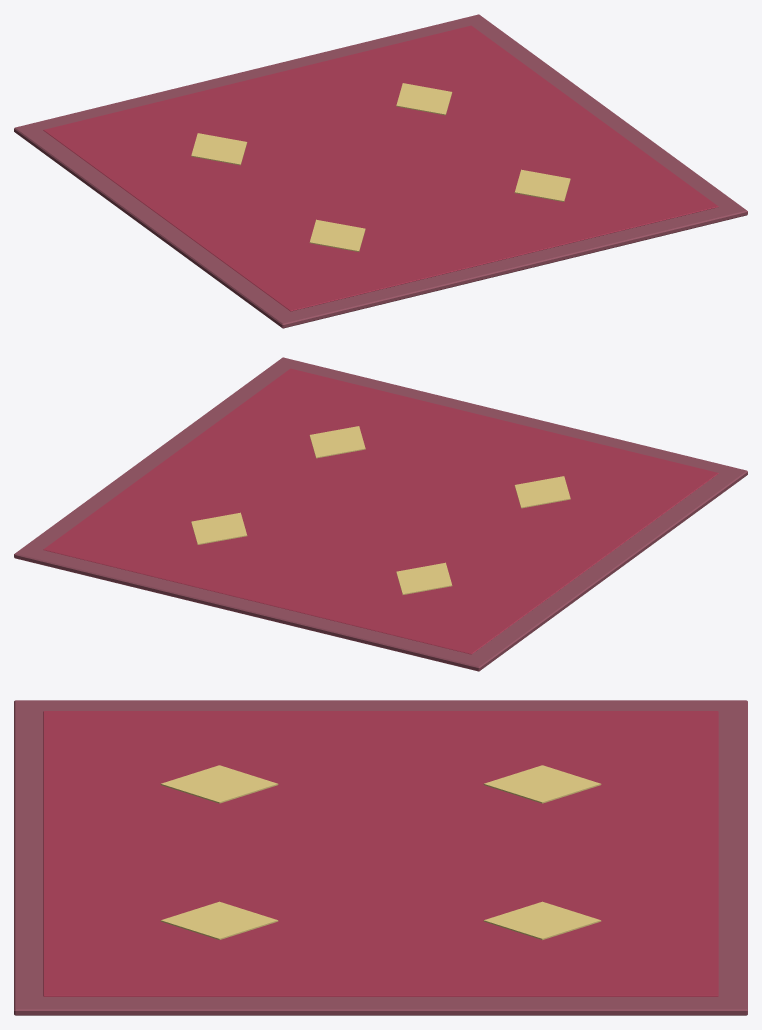
Rendered from theatre-stage-and-backstage-aisle-carpet-tile-2724c5bf__35904.glb.
3 views of the same model, one above another, from view 1: azimuth 30°, elevation 25°; view 2: azimuth 150°, elevation 25°; view 3: azimuth 270°, elevation 25° (orthographic). The views are drawn at different scales.
Visible parts, largest first — view 1: aisle-carpet-tile; view 2: aisle-carpet-tile; view 3: aisle-carpet-tile.
Boxes of the visible parts, bbox=[...] form: aisle-carpet-tile: bbox=[14, 14, 747, 328]; aisle-carpet-tile: bbox=[14, 357, 747, 671]; aisle-carpet-tile: bbox=[14, 700, 747, 1015].
Bounding box in the file's own units: 2 × 0.028 × 2.
